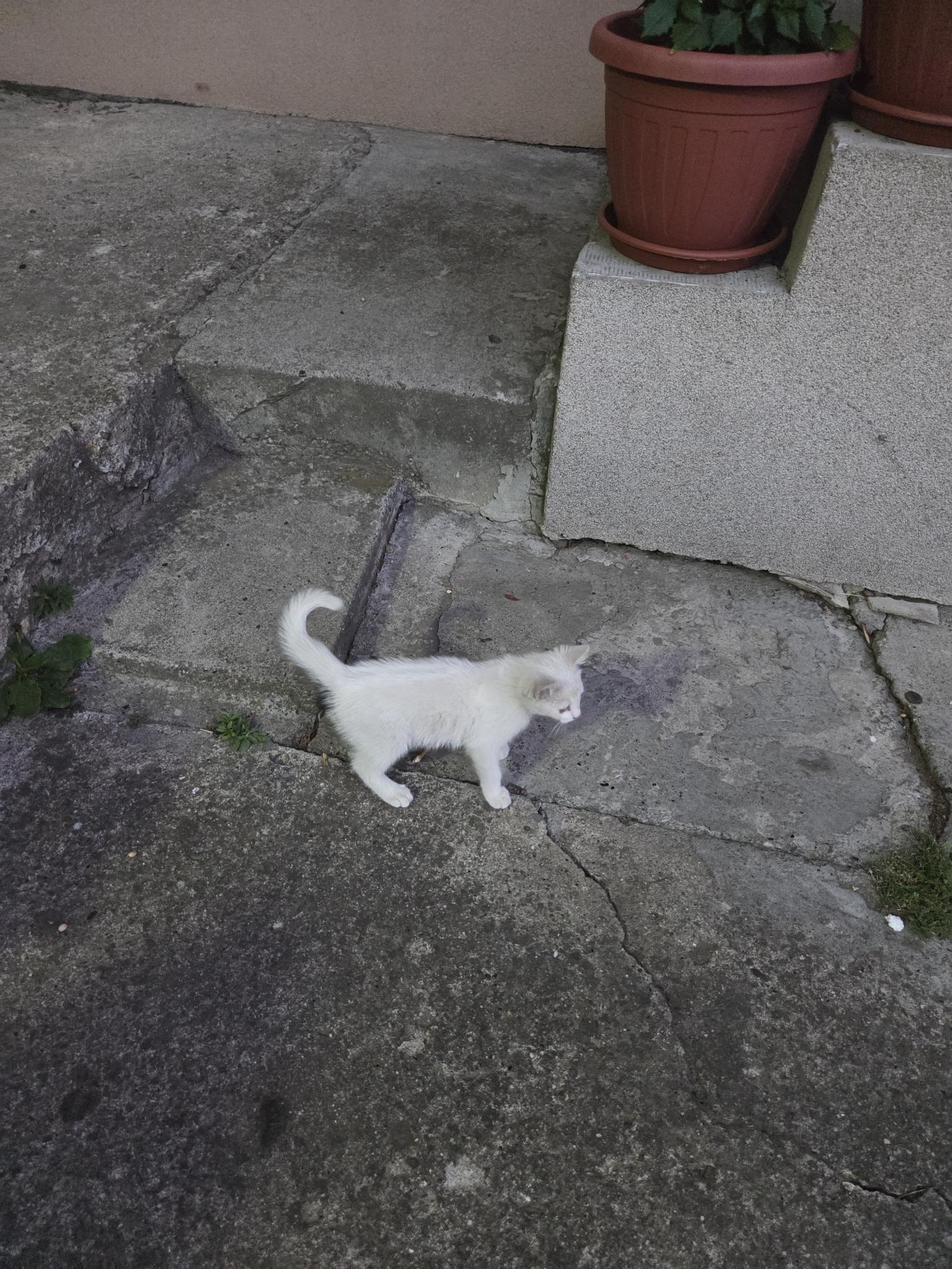macka: (277, 587, 591, 810)
